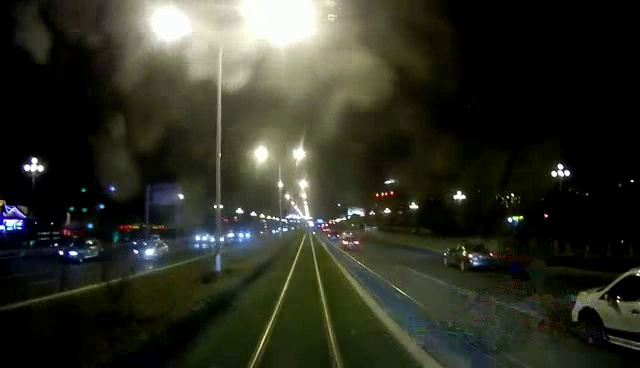car: (569, 271, 640, 348), (443, 241, 496, 273), (55, 237, 108, 264), (133, 240, 178, 262)
